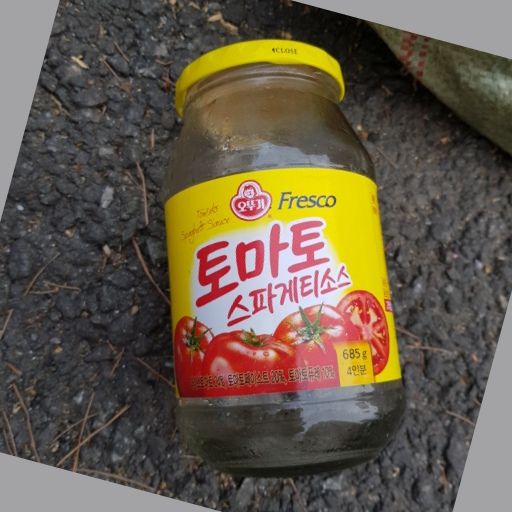Glass_5: (154, 36, 412, 469)
